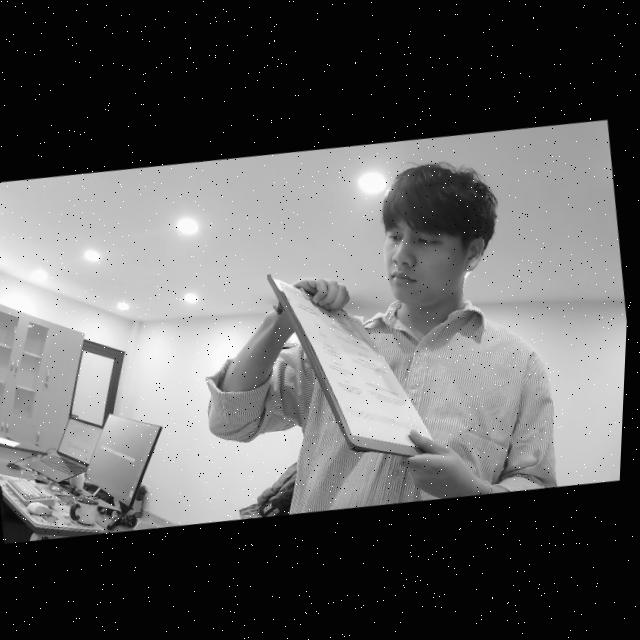document: (278, 280, 439, 451)
face: (379, 165, 492, 315)
